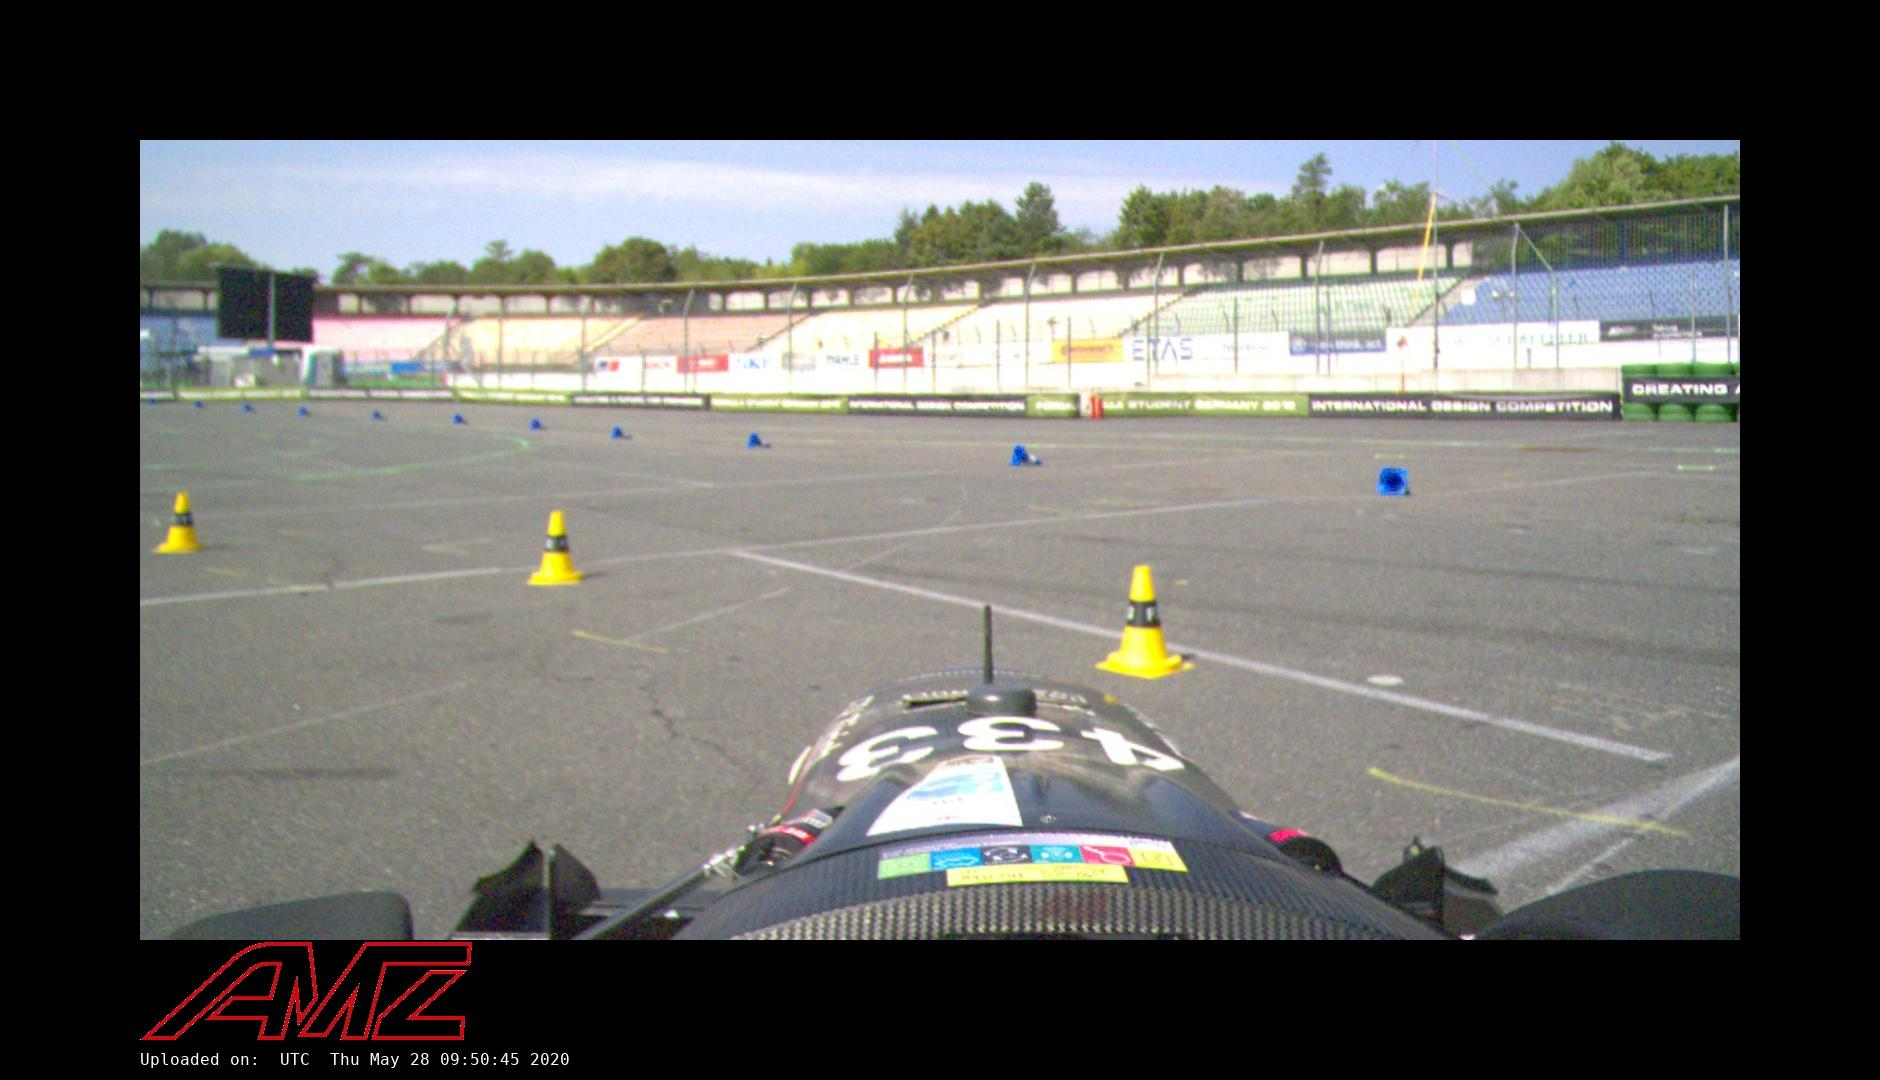blue_cone: (1375, 466, 1413, 497), (1008, 444, 1043, 466), (745, 431, 771, 450), (609, 426, 631, 441), (528, 419, 547, 430)
yellow_cone: (1094, 561, 1197, 682), (527, 510, 587, 587), (151, 491, 207, 554)
